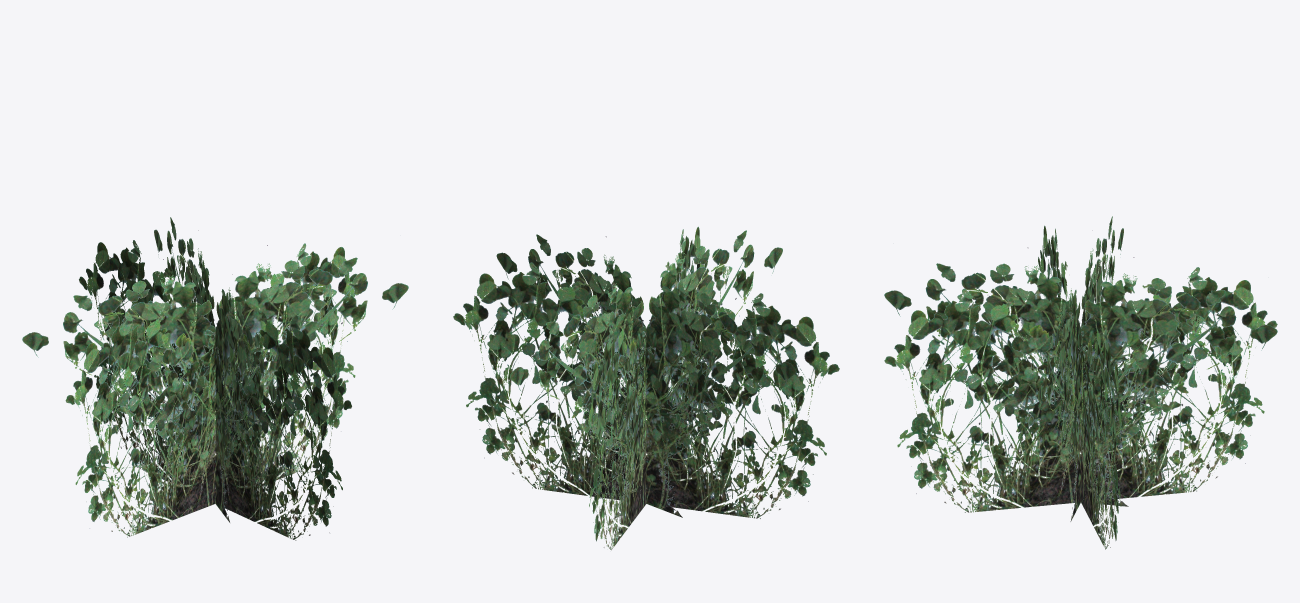
The model's file is TerrainGrass03 Variant.fbx.
3 views of the same model, side by side, from view 1: azimuth 30°, elevation 25°; view 2: azimuth 150°, elevation 25°; view 3: azimuth 270°, elevation 25° (orthographic).
Visible parts, largest first — view 1: TerrainGrass03_Variant; view 2: TerrainGrass03_Variant; view 3: TerrainGrass03_Variant.
Boxes of the visible parts, x1,y1,x2,y2 form: TerrainGrass03_Variant: [22, 217, 408, 540]; TerrainGrass03_Variant: [453, 226, 839, 550]; TerrainGrass03_Variant: [884, 216, 1277, 549].
Size of the model in its own units: 99.98 by 108 by 99.98.
